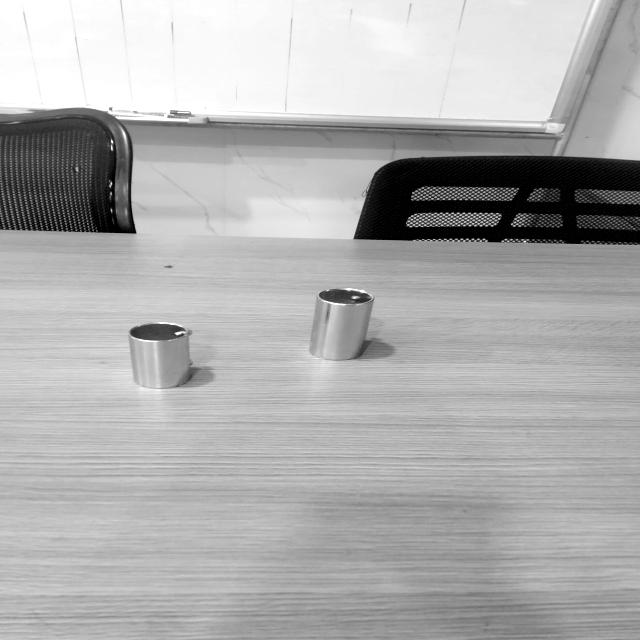Co_Lon: (304, 282, 376, 367)
Co_Nho: (129, 322, 192, 389)
